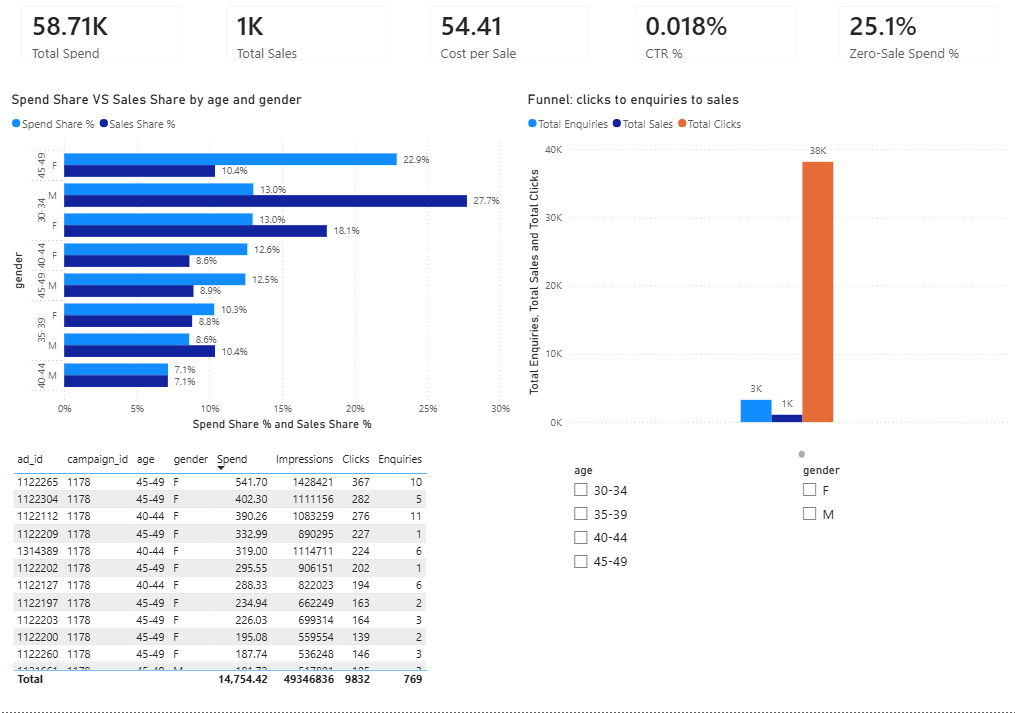

The dashboard page shown, as its layout file describes it:
{"tool":"powerbi","page":{"name":"Overview ","canvas":[1280,900],"ordinal":0},"visuals":[{"type":"cardVisual","fields":{"Data":["_Measures.Total Spend"]},"box":[20,20,230,100],"z":0},{"type":"cardVisual","fields":{"Data":["_Measures.Total Sales"]},"box":[270,20,230,100],"z":1000},{"type":"cardVisual","fields":{"Data":["_Measures.Zero-Sale Spend %"]},"box":[1020,20,230,100],"z":2000},{"type":"cardVisual","fields":{"Data":["_Measures.CTR %"]},"box":[770,20,230.5,100.2],"z":3000},{"type":"cardVisual","fields":{"Data":["_Measures.Cost per Sale"]},"box":[520,20,230,100],"z":4000},{"type":"clusteredBarChart","title":"Spend Share VS Sales Share by age and gender ","fields":{"Category":["ads.age","ads.gender"],"Y":["_Measures.Spend Share %","_Measures.Sales Share %"]},"box":[20.6,140,620,420],"z":5000},{"type":"clusteredColumnChart","title":"Funnel: clicks to enquiries to sales","fields":{"Y":["_Measures.Total Enquiries","_Measures.Total Sales","_Measures.Total Clicks"]},"box":[651.2,140.6,599.2,418.8],"z":6000},{"type":"tableEx","fields":{"Values":["ads.ad_id","ads.campaign_id","ads.age","ads.gender","Sum(ads.spend)","Sum(ads.impressions)","Sum(ads.clicks)","Sum(ads.enquiries)"]},"box":[21.4,574.7,979.8,299.6],"z":7000},{"type":"slicer","fields":{"Values":["ads.age"]},"box":[700,590,250,150],"z":8000},{"type":"slicer","fields":{"Values":["ads.gender"]},"box":[980,590,250,110],"z":9000}]}

Visuals, with their boxes in screenshot pixels (x1, y1, x2, y2), scaled from the page's 1280x900 canvas onto the 1015x713 screenshot:
cardVisual - _Measures.Total Spend: {"left": 16, "top": 16, "right": 198, "bottom": 95}
cardVisual - _Measures.Total Sales: {"left": 214, "top": 16, "right": 396, "bottom": 95}
cardVisual - _Measures.Zero-Sale Spend %: {"left": 809, "top": 16, "right": 991, "bottom": 95}
cardVisual - _Measures.CTR %: {"left": 611, "top": 16, "right": 793, "bottom": 95}
cardVisual - _Measures.Cost per Sale: {"left": 412, "top": 16, "right": 595, "bottom": 95}
"Spend Share VS Sales Share by age and gender " clusteredBarChart: {"left": 16, "top": 111, "right": 508, "bottom": 444}
"Funnel: clicks to enquiries to sales" clusteredColumnChart: {"left": 516, "top": 111, "right": 992, "bottom": 443}
tableEx - ads.ad_id x ads.campaign_id: {"left": 17, "top": 455, "right": 794, "bottom": 693}
slicer - ads.age: {"left": 555, "top": 467, "right": 753, "bottom": 586}
slicer - ads.gender: {"left": 777, "top": 467, "right": 975, "bottom": 555}
